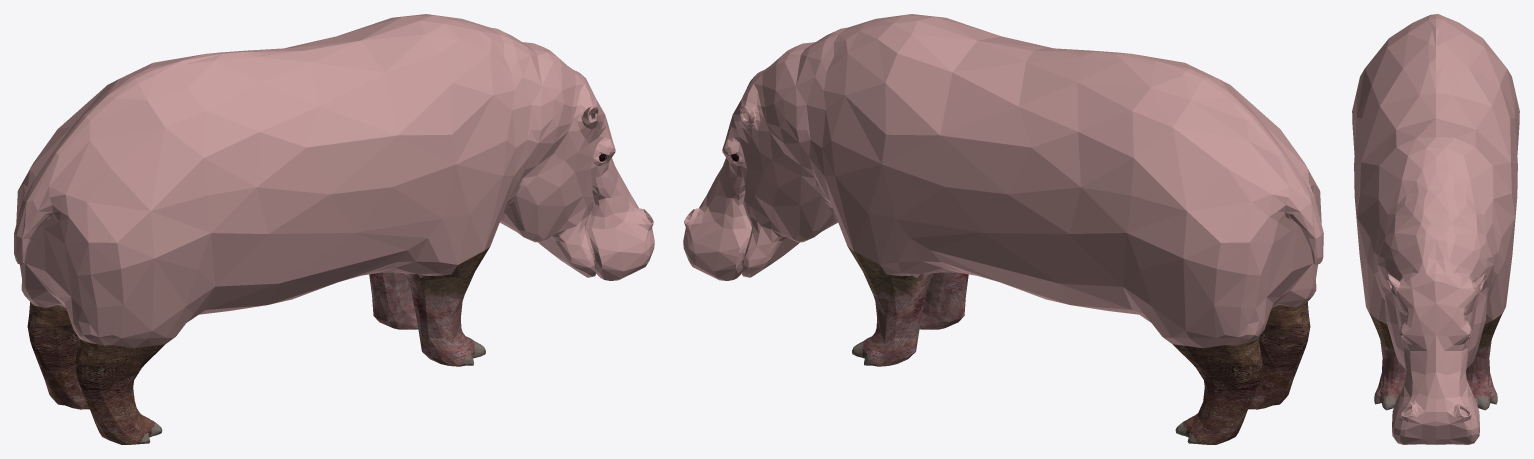
The model's file is Hippo1.0.fbx.
The picture shows the model from 3 angles, left to right: view 1: azimuth 30°, elevation 25°; view 2: azimuth 150°, elevation 25°; view 3: azimuth 270°, elevation 25°; orthographic projection. The views are drawn at different scales.
Visible parts, largest first — view 1: hipocpo; view 2: hipocpo; view 3: hipocpo.
Boxes of the visible parts, x1=… form: hipocpo: x1=14, y1=14, x2=654, y2=444; hipocpo: x1=683, y1=14, x2=1323, y2=444; hipocpo: x1=1352, y1=14, x2=1519, y2=444.
Bounding box in the file's own units: 114 × 59.91 × 33.05.
